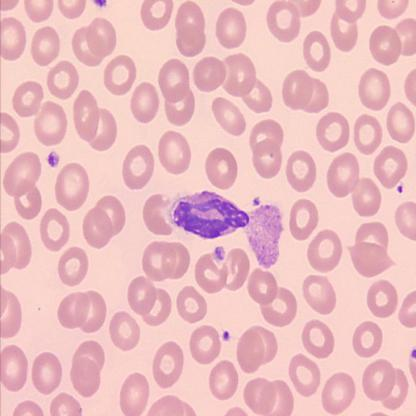Segmented neutrophil: (166, 188, 251, 245)
